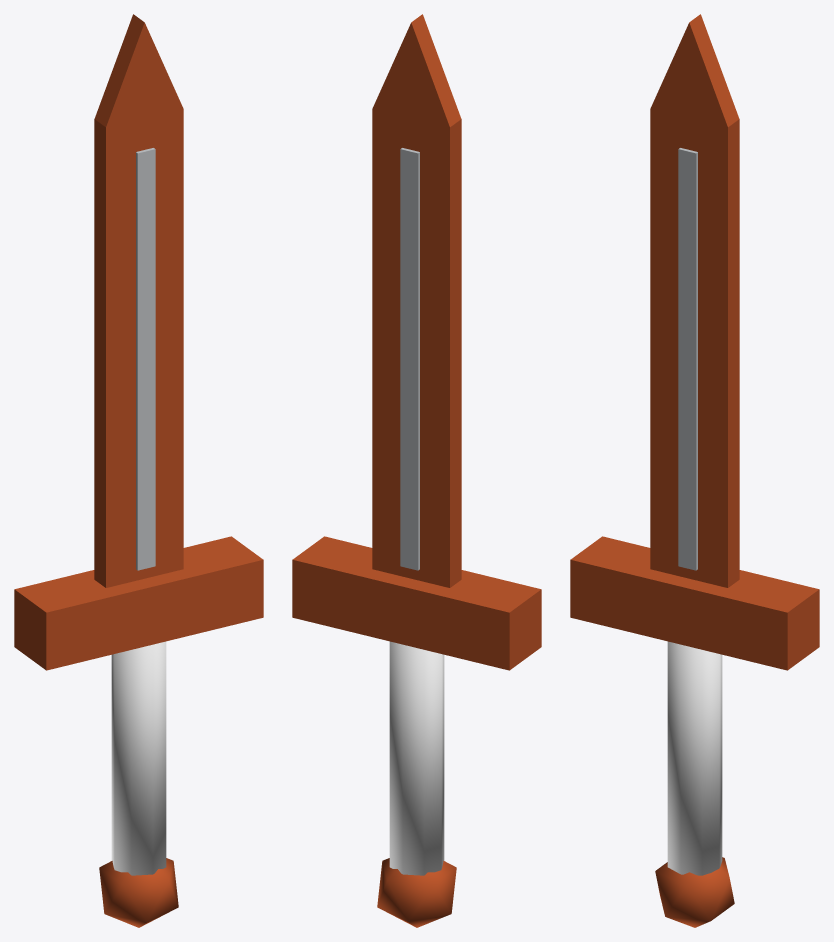
File: cinder_shortsword.glb
3 renders of one model, left to right at view 1: azimuth 30°, elevation 25°; view 2: azimuth 150°, elevation 25°; view 3: azimuth 330°, elevation 25°, orthographic.
Visible parts, largest first — view 1: cinder_shortsword_v0; view 2: cinder_shortsword_v0; view 3: cinder_shortsword_v0.
Part boxes in pixels (bbox=[...]): cinder_shortsword_v0: bbox=[14, 14, 263, 927]; cinder_shortsword_v0: bbox=[292, 14, 541, 927]; cinder_shortsword_v0: bbox=[570, 14, 819, 927].
Bounding box in the file's own units: 0.196 × 0.785 × 0.0595.
